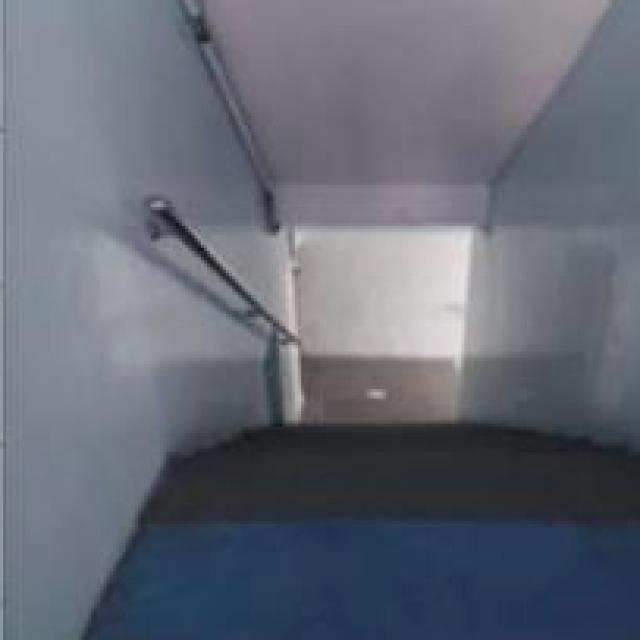downstair: (268, 384, 591, 531)
